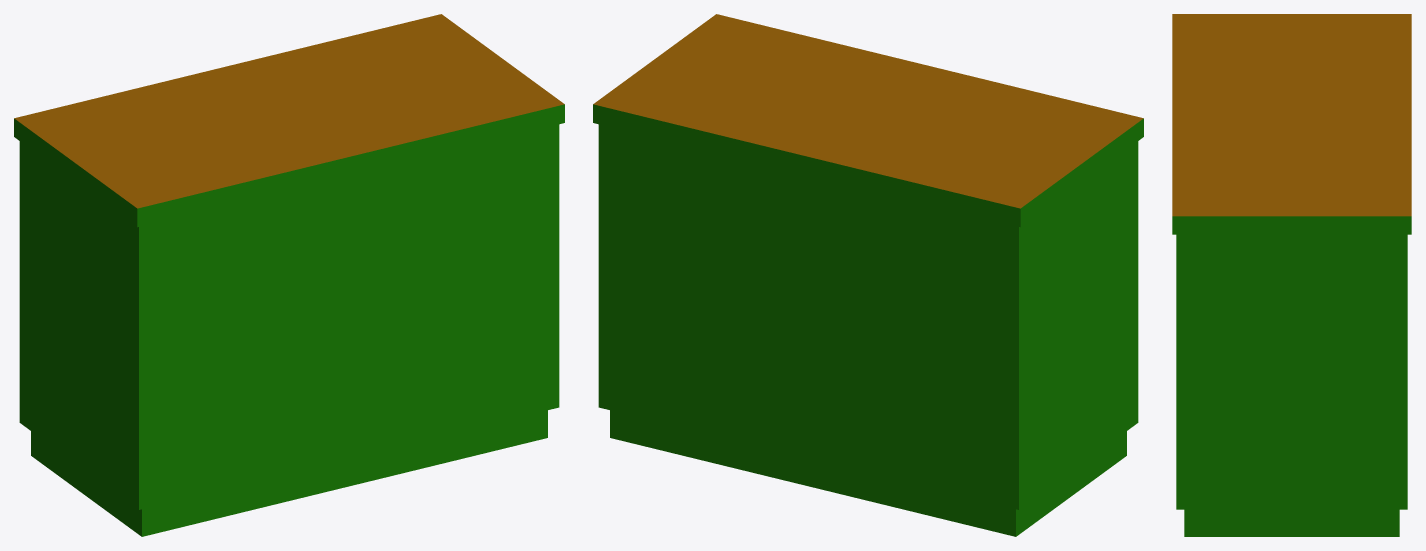
The model's file is SM_LSP_Cabinet.fbx.
3 views of the same model, side by side, from view 1: azimuth 30°, elevation 25°; view 2: azimuth 150°, elevation 25°; view 3: azimuth 270°, elevation 25° (orthographic). The views are drawn at different scales.
Parts seen in each view (by area): view 1: SM_LSP_Cabinet; view 2: SM_LSP_Cabinet; view 3: SM_LSP_Cabinet.
Boxes of the visible parts, bbox=[...] form: SM_LSP_Cabinet: bbox=[14, 14, 564, 536]; SM_LSP_Cabinet: bbox=[593, 14, 1143, 536]; SM_LSP_Cabinet: bbox=[1172, 14, 1411, 536].
Size of what is drawn, in the model's own units: 120 by 60 by 90.
